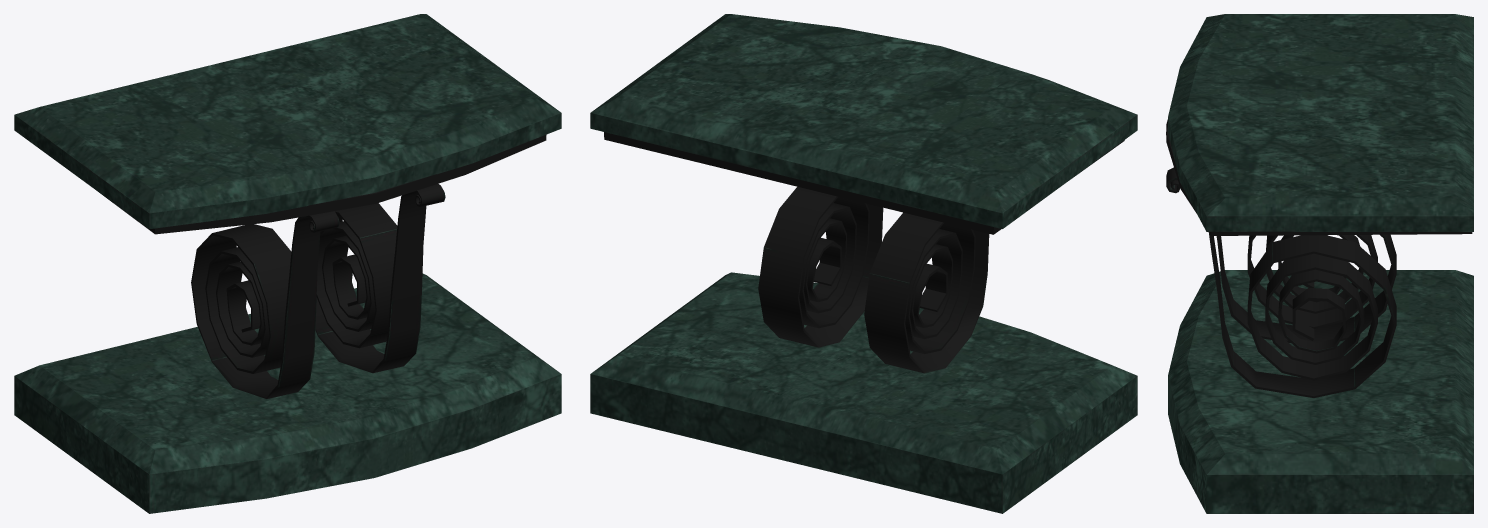
File: Table04.fbx
3 views of the same model, side by side, from view 1: azimuth 30°, elevation 25°; view 2: azimuth 150°, elevation 25°; view 3: azimuth 270°, elevation 25° (orthographic).
Visible parts, largest first — view 1: Circle; view 2: Circle; view 3: Circle.
Boxes of the visible parts, bbox=[...] form: Circle: bbox=[14, 14, 561, 513]; Circle: bbox=[590, 14, 1137, 513]; Circle: bbox=[1166, 14, 1473, 513].
Bounding box in the file's own units: 0.4217 × 0.3043 × 0.2754.
